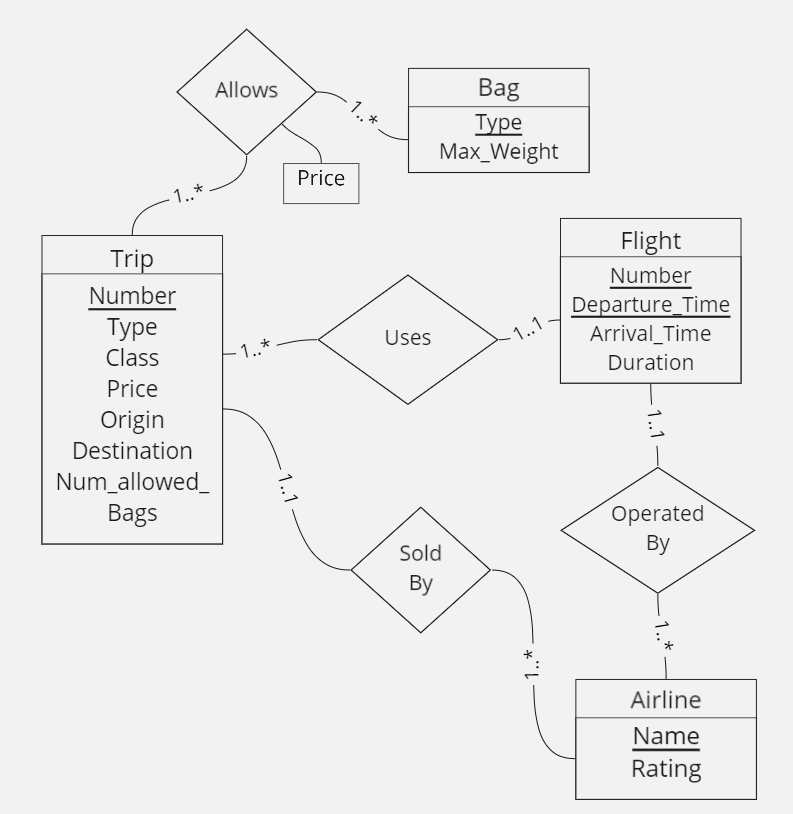entity: (41, 235, 223, 544), (560, 217, 742, 384), (576, 677, 759, 799), (408, 67, 590, 173)
rel: (560, 467, 756, 592), (316, 273, 499, 405), (353, 505, 490, 634), (177, 30, 317, 153)
rel_attr: (275, 159, 369, 210)
